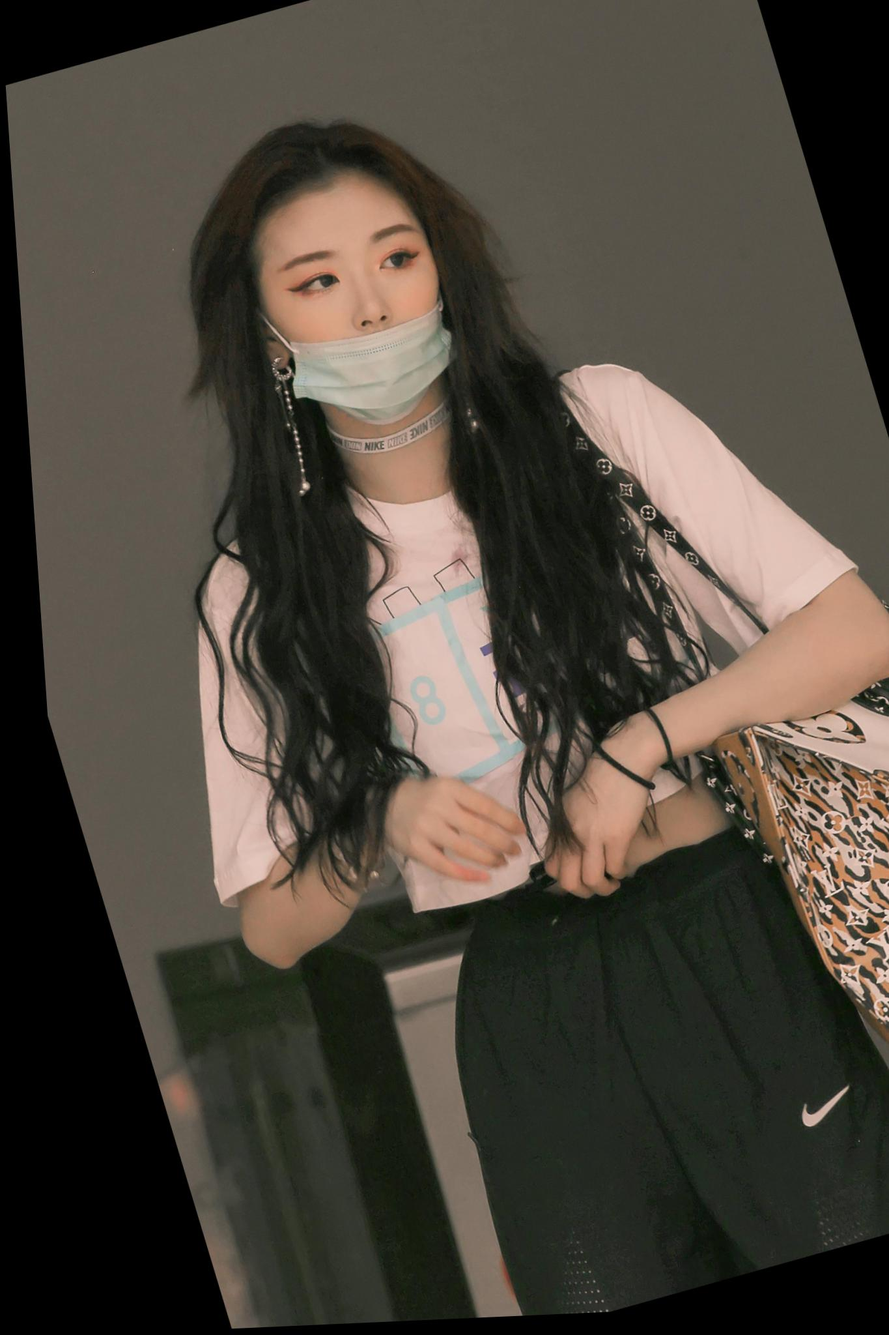WRONG: (243, 199, 472, 446)
